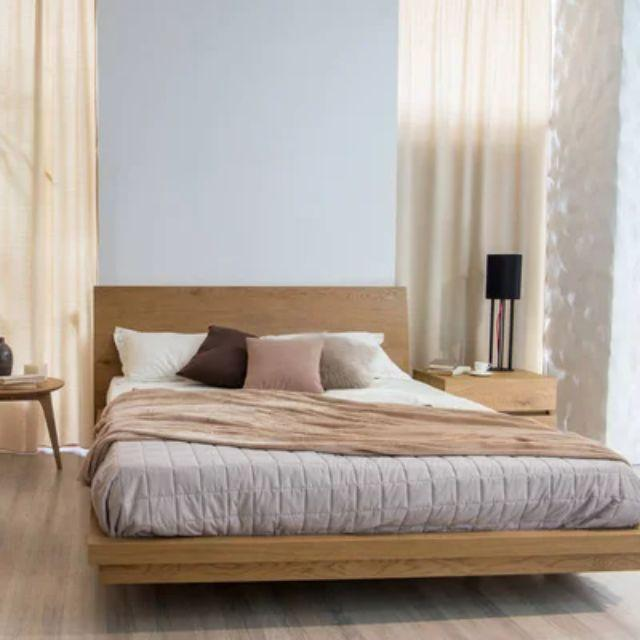bed: (97, 391, 640, 588)
lamp: (484, 252, 524, 372)
pillow: (114, 324, 210, 388), (244, 331, 333, 392), (184, 324, 256, 396), (323, 330, 384, 387)
